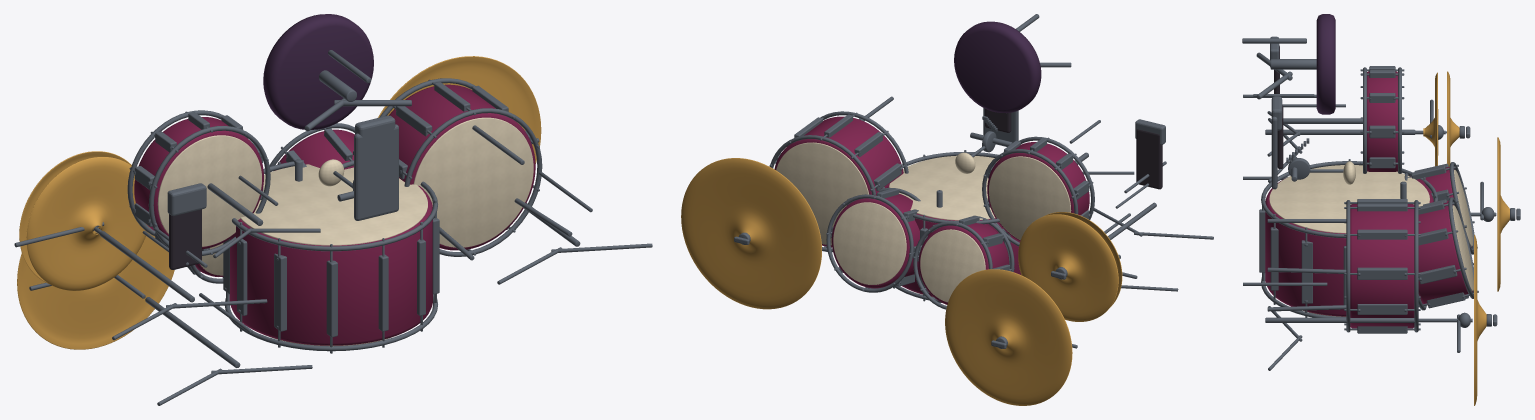
File: acoustic-drum-kit.glb
3 views of the same model, side by side, from view 1: azimuth 30°, elevation 25°; view 2: azimuth 150°, elevation 25°; view 3: azimuth 270°, elevation 25° (orthographic). The views are drawn at different scales.
Parts seen in each view (by area): view 1: Static_Dark_Chrome_Batch, Kick_Shell, HiHat_Top_Brushed_Bronze_Batch, Floor_Tom_Warm_Cream_Heads_Batch, Throne_Seat, Crash_Disc, Kick_Warm_Cream_Heads_Batch, Kick_Dark_Chrome_Batch, Snare_Warm_Cream_Heads_Batch, Ride_Disc, Floor_Tom_Dark_Chrome_Batch, Floor_Tom_Shell (+5 smaller); view 2: Ride_Disc, Crash_Disc, HiHat_Top_Brushed_Bronze_Batch, Throne_Seat, Tom_Two_Warm_Cream_Heads_Batch, Floor_Tom_Warm_Cream_Heads_Batch, Snare_Warm_Cream_Heads_Batch, Kick_Warm_Cream_Heads_Batch, Static_Dark_Chrome_Batch, Tom_One_Warm_Cream_Heads_Batch, Floor_Tom_Shell, Floor_Tom_Dark_Chrome_Batch (+9 smaller); view 3: Static_Dark_Chrome_Batch, Kick_Warm_Cream_Heads_Batch, Floor_Tom_Shell, Kick_Shell, Floor_Tom_Dark_Chrome_Batch, Kick_Dark_Chrome_Batch, Tom_Two_Shell, Snare_Dark_Chrome_Batch, Tom_Two_Dark_Chrome_Batch, Snare_Shell, Throne_Seat, HiHat_Top_Brushed_Bronze_Batch (+7 smaller).
Part boxes in pixels (x1,y1,x2,y2): Static_Dark_Chrome_Batch: (14, 50, 652, 405); Kick_Shell: (229, 185, 432, 345); HiHat_Top_Brushed_Bronze_Batch: (19, 151, 148, 290); Floor_Tom_Warm_Cream_Heads_Batch: (413, 117, 533, 247); Throne_Seat: (263, 14, 373, 129); Crash_Disc: (17, 227, 174, 349); Kick_Warm_Cream_Heads_Batch: (240, 164, 427, 346); Kick_Dark_Chrome_Batch: (223, 160, 439, 353); Snare_Warm_Cream_Heads_Batch: (157, 135, 261, 246); Ride_Disc: (378, 56, 541, 163); Floor_Tom_Dark_Chrome_Batch: (379, 78, 542, 256); Floor_Tom_Shell: (389, 84, 535, 250); Ride_Disc: (681, 158, 821, 309); Crash_Disc: (945, 269, 1072, 405); HiHat_Top_Brushed_Bronze_Batch: (1018, 212, 1122, 321); Throne_Seat: (954, 21, 1041, 113); Tom_Two_Warm_Cream_Heads_Batch: (833, 202, 906, 284); Floor_Tom_Warm_Cream_Heads_Batch: (776, 142, 868, 245); Snare_Warm_Cream_Heads_Batch: (989, 156, 1071, 239); Kick_Warm_Cream_Heads_Batch: (889, 155, 999, 297); Static_Dark_Chrome_Batch: (859, 14, 1213, 348); Tom_One_Warm_Cream_Heads_Batch: (920, 229, 985, 302); Floor_Tom_Shell: (774, 116, 903, 247); Floor_Tom_Dark_Chrome_Batch: (769, 111, 908, 252); Static_Dark_Chrome_Batch: (1242, 36, 1496, 370); Kick_Warm_Cream_Heads_Batch: (1269, 165, 1429, 316); Floor_Tom_Shell: (1350, 204, 1414, 328); Kick_Shell: (1265, 178, 1433, 316); Floor_Tom_Dark_Chrome_Batch: (1344, 199, 1420, 333); Kick_Dark_Chrome_Batch: (1259, 159, 1438, 317); Tom_Two_Shell: (1418, 202, 1472, 303); Snare_Dark_Chrome_Batch: (1360, 66, 1404, 173); Tom_Two_Dark_Chrome_Batch: (1418, 197, 1478, 310); Snare_Shell: (1367, 71, 1397, 171); Throne_Seat: (1316, 14, 1335, 114); HiHat_Top_Brushed_Bronze_Batch: (1423, 71, 1459, 166).
Size of the model in its own units: 4.51 by 2.95 by 2.37.
7 materials, 1 textured.
